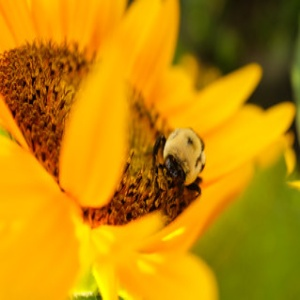bee: (152, 125, 210, 206)
